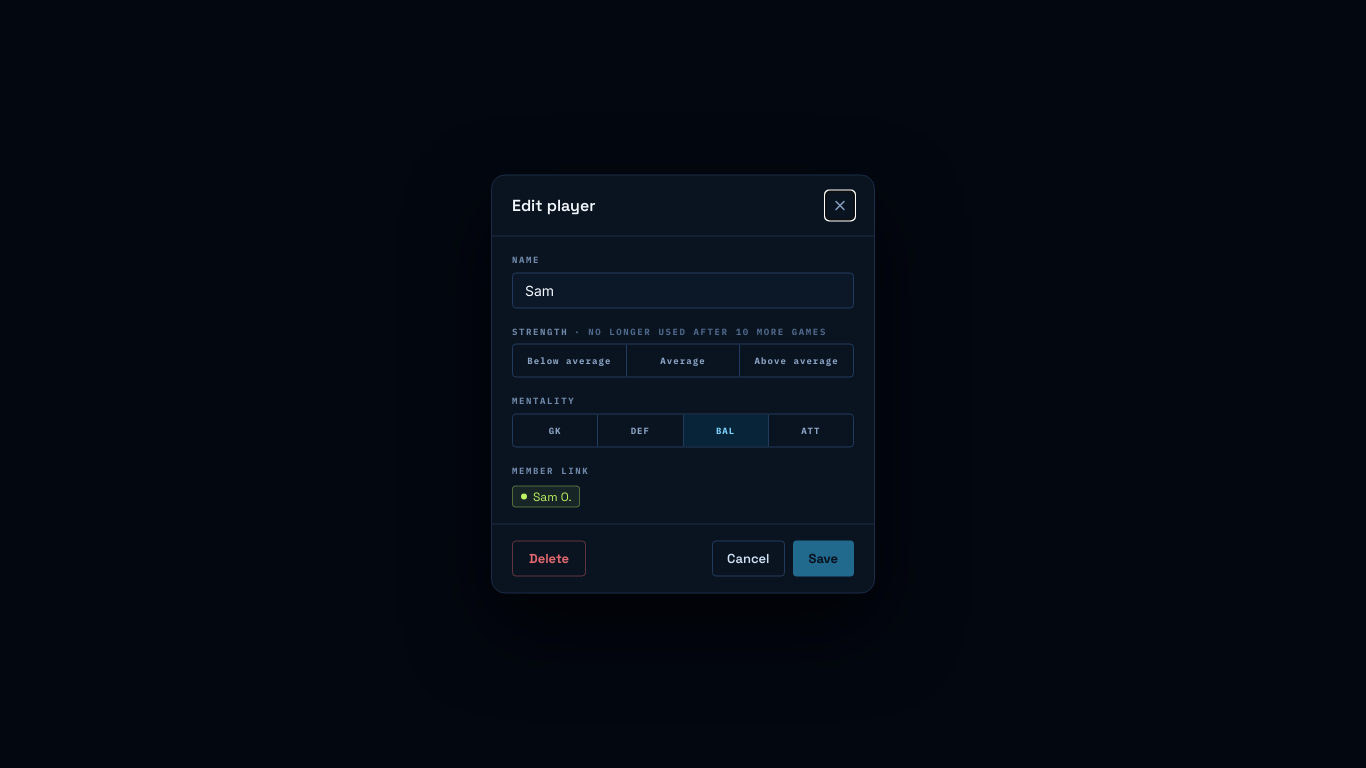
Test: EditPlayerModal › warns that a linked member will be unlinked
Click the button "Delete".
click(549, 558)  # box [512, 540, 586, 576]
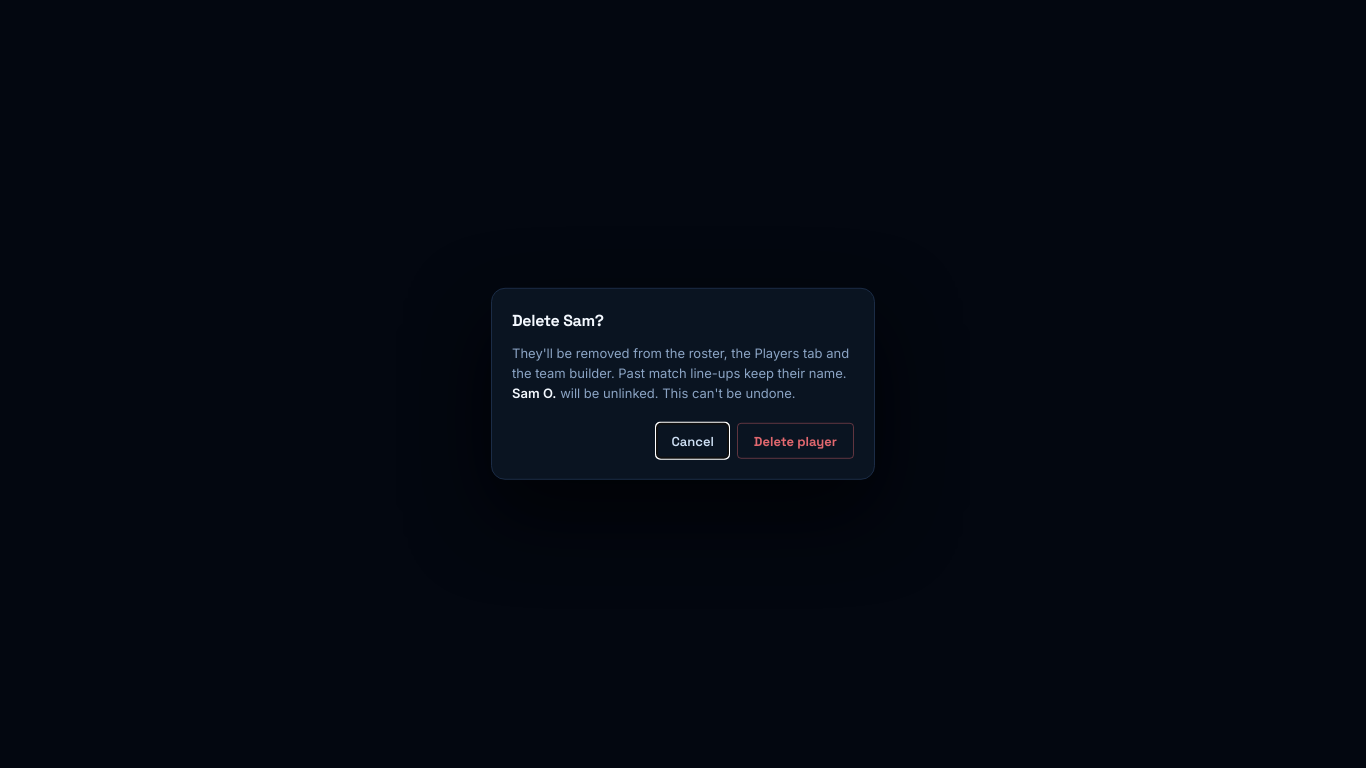
expect the text "will be unlinked" shows "Sam O. will be unlinked": met, box [512, 343, 854, 403]
